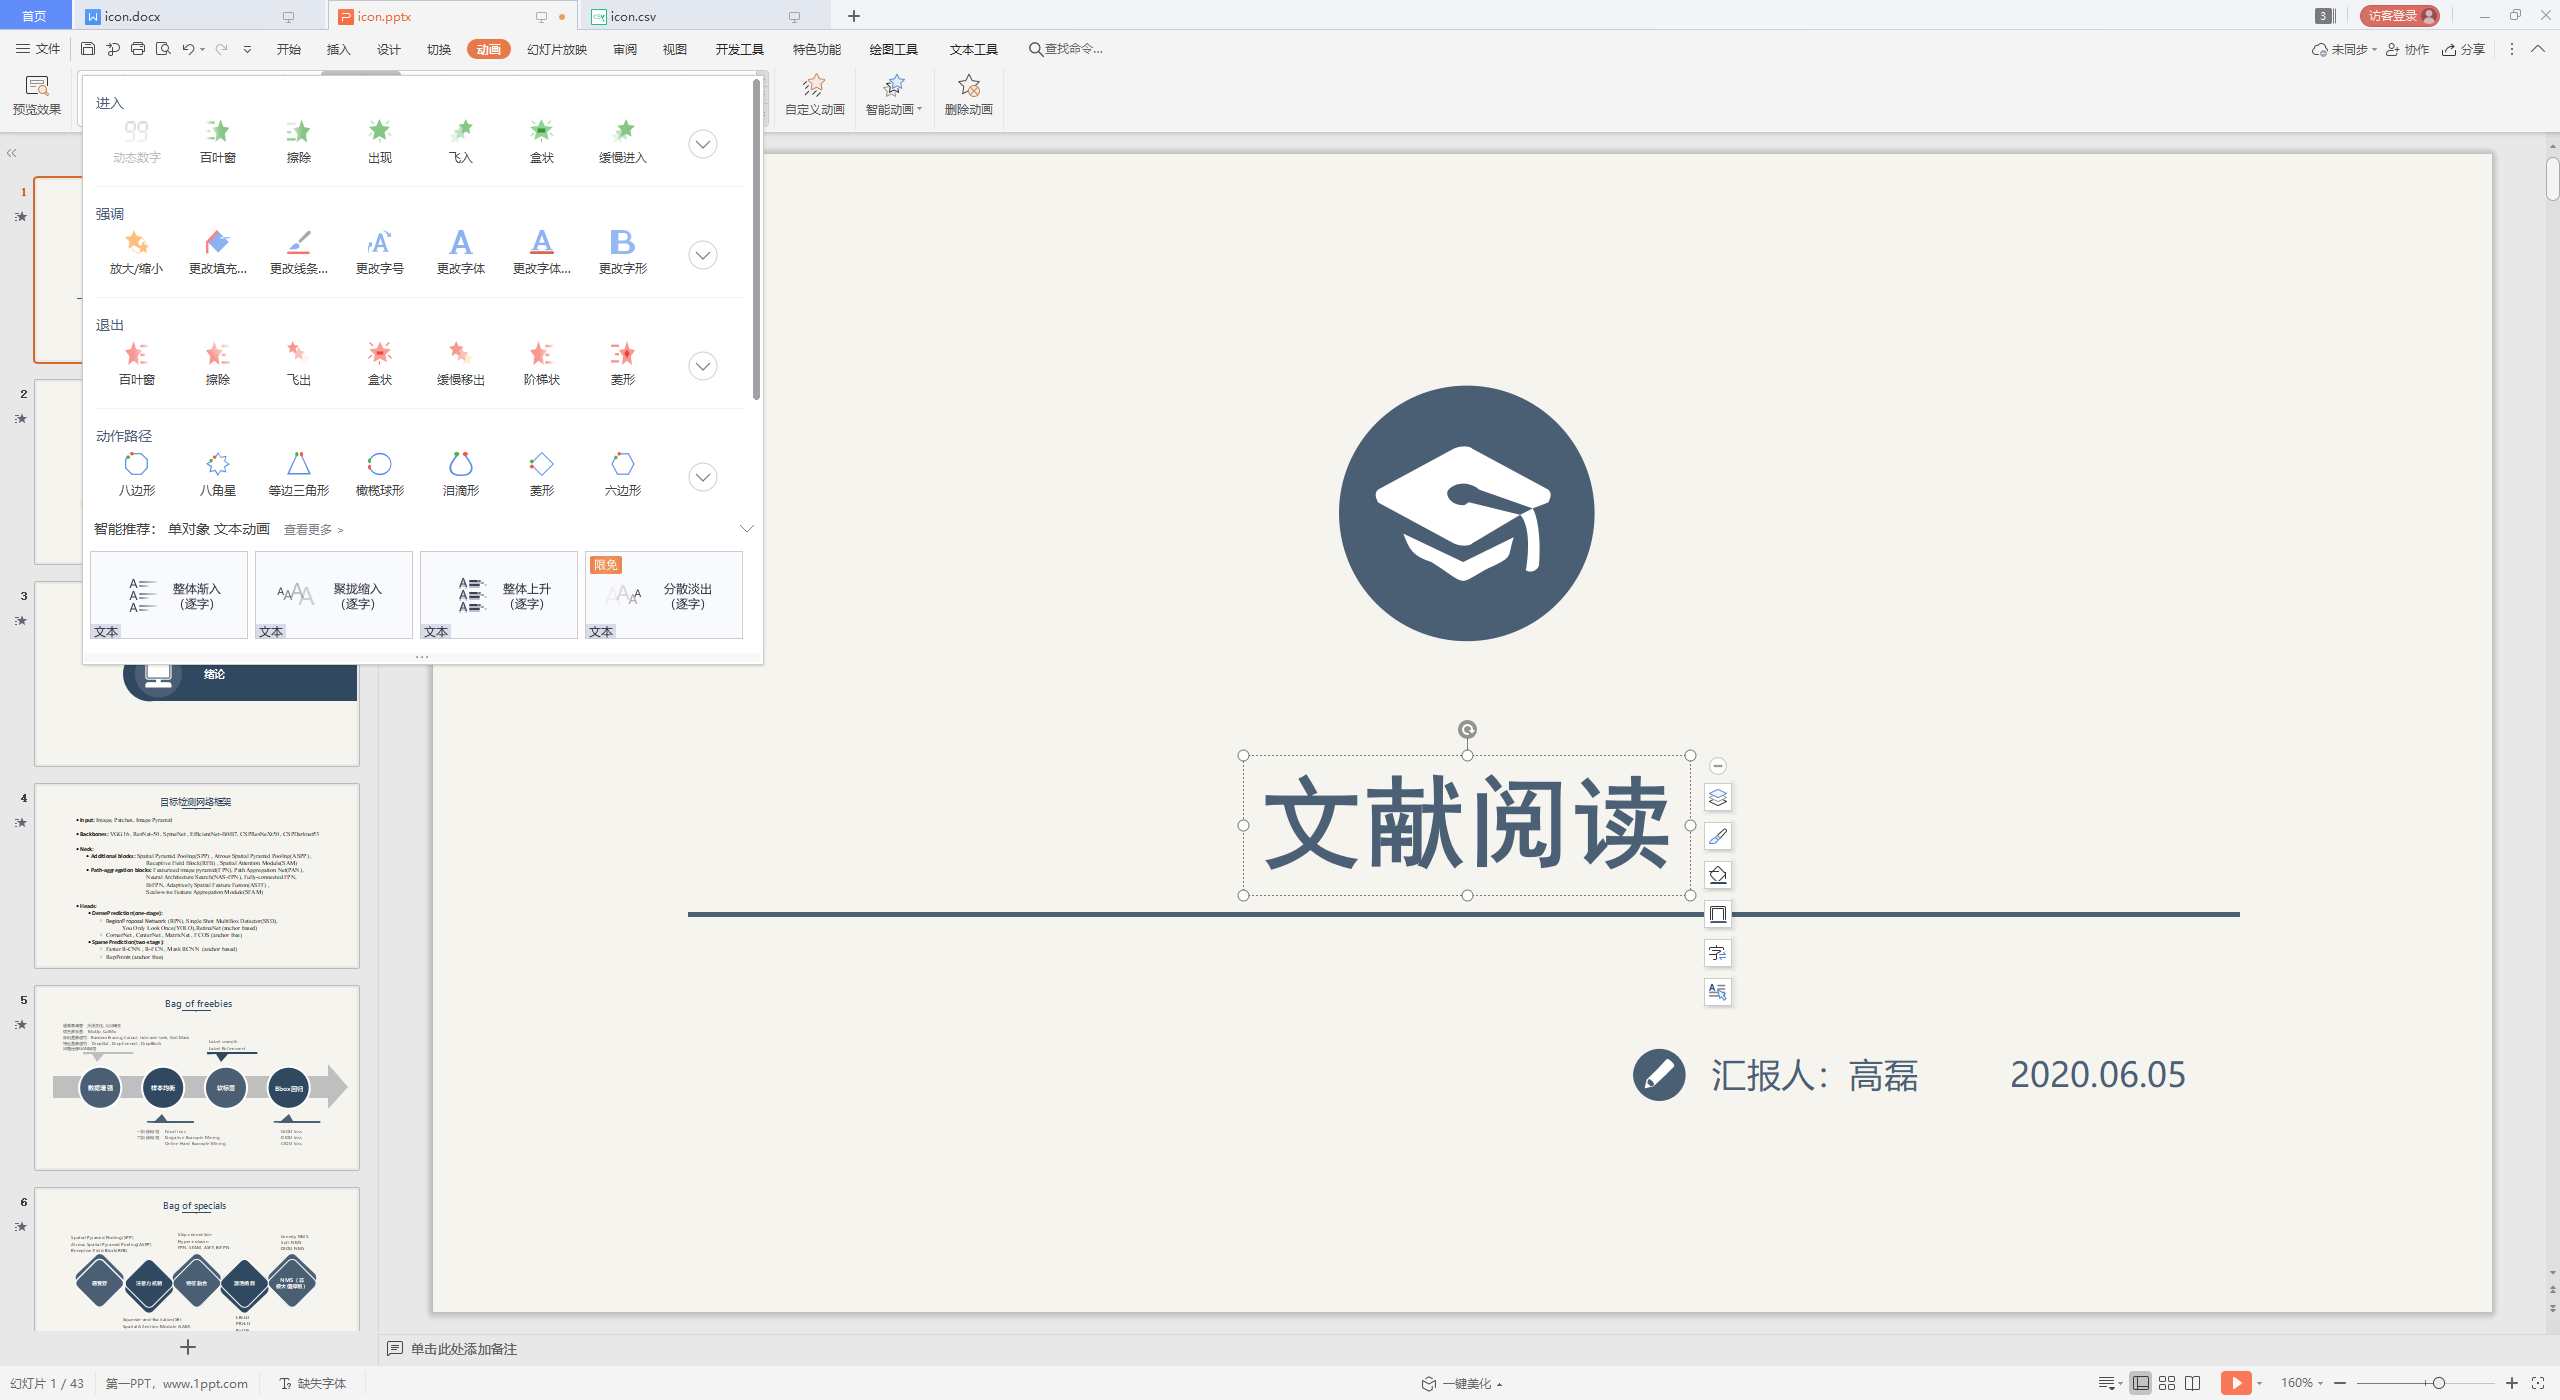character: (1265, 772, 1669, 874), (1705, 1045, 1922, 1102), (2003, 1050, 2191, 1098), (103, 1374, 252, 1395), (409, 1343, 521, 1359), (9, 1376, 86, 1395), (274, 1372, 352, 1391), (265, 483, 333, 500), (526, 41, 591, 59), (91, 522, 159, 538), (95, 428, 155, 445), (184, 260, 248, 276), (107, 260, 164, 278), (281, 519, 333, 538), (1045, 41, 1107, 57), (784, 102, 846, 117), (1443, 1372, 1489, 1393), (946, 40, 1000, 57), (595, 148, 648, 166), (212, 521, 271, 536), (714, 41, 765, 59), (352, 260, 409, 276), (350, 483, 407, 498), (267, 262, 329, 276), (355, 10, 415, 24), (512, 262, 572, 276), (860, 102, 914, 117), (791, 41, 843, 57), (867, 41, 919, 57), (596, 262, 648, 278), (434, 372, 486, 388), (109, 152, 164, 166), (2369, 9, 2417, 24), (433, 262, 486, 276), (103, 10, 164, 22), (2277, 1371, 2312, 1391), (609, 10, 659, 24), (10, 103, 60, 117), (165, 521, 209, 536), (2331, 41, 2369, 59), (941, 103, 995, 116), (440, 483, 479, 498), (519, 372, 562, 386), (603, 484, 645, 498), (17, 9, 50, 26), (91, 95, 128, 110), (91, 205, 128, 221), (117, 372, 157, 386), (360, 372, 400, 386), (116, 484, 155, 498), (197, 483, 236, 497), (34, 38, 66, 55), (93, 317, 128, 333), (198, 372, 236, 386), (279, 372, 317, 386), (195, 152, 238, 164), (283, 150, 315, 166), (524, 483, 557, 498), (2401, 41, 2431, 57), (2458, 41, 2488, 57), (271, 43, 303, 57), (322, 41, 355, 55), (372, 41, 405, 55), (474, 43, 507, 57), (609, 41, 641, 55), (660, 41, 693, 55), (362, 152, 395, 166), (605, 372, 638, 386), (421, 41, 452, 55), (526, 152, 557, 166), (445, 152, 476, 166), (16, 183, 33, 198), (12, 386, 28, 402), (17, 588, 33, 603), (16, 790, 31, 805), (16, 1197, 33, 1210), (16, 991, 31, 1005)
icon: (36, 984, 359, 1171), (36, 784, 355, 971), (40, 1188, 364, 1340), (83, 666, 359, 766), (1377, 447, 1550, 583), (419, 552, 578, 640), (586, 552, 741, 640), (255, 552, 410, 636), (90, 550, 241, 634), (33, 378, 83, 560), (33, 581, 83, 764), (33, 176, 81, 359), (1638, 1055, 1677, 1091), (1701, 781, 1734, 816), (1703, 821, 1734, 852), (688, 128, 717, 159), (688, 460, 717, 491), (2219, 1369, 2253, 1395), (688, 240, 717, 269), (688, 350, 717, 379), (1703, 860, 1733, 890), (1703, 898, 1733, 928), (1703, 938, 1733, 967), (1703, 978, 1733, 1005), (446, 450, 474, 478), (365, 340, 393, 366), (203, 340, 231, 366), (609, 340, 636, 366), (609, 228, 636, 253), (286, 448, 312, 476), (122, 340, 148, 366), (365, 117, 391, 143), (448, 229, 474, 255), (528, 340, 553, 366), (802, 71, 827, 97), (957, 71, 983, 97), (610, 450, 636, 476), (286, 229, 312, 253), (365, 229, 391, 253), (203, 229, 229, 253), (284, 340, 310, 364), (610, 117, 636, 141), (528, 119, 553, 143), (881, 72, 907, 97), (122, 452, 148, 476), (365, 452, 391, 476), (205, 450, 229, 476), (528, 452, 553, 476), (2127, 1371, 2153, 1395), (124, 229, 148, 253), (448, 340, 472, 364), (529, 229, 553, 253), (448, 117, 472, 141), (284, 119, 310, 141), (203, 119, 229, 141), (122, 119, 148, 141), (2181, 1371, 2203, 1395), (2155, 1371, 2179, 1393), (26, 74, 48, 97), (2313, 5, 2338, 24), (1707, 755, 1727, 776), (2419, 5, 2439, 24), (1457, 719, 1476, 738), (178, 1336, 197, 1355), (2096, 1372, 2115, 1391), (590, 9, 609, 26), (1027, 40, 1045, 59), (384, 1340, 403, 1357), (103, 40, 121, 57), (1420, 1374, 1438, 1391), (2503, 1374, 2520, 1391), (79, 40, 97, 55), (153, 40, 171, 55), (336, 9, 353, 24), (14, 40, 31, 55), (84, 9, 102, 24), (279, 9, 297, 24), (3, 143, 19, 160), (12, 814, 29, 829), (1234, 817, 1252, 833), (1683, 817, 1698, 834), (12, 1217, 28, 1234), (2529, 1374, 2546, 1390), (414, 652, 434, 664), (129, 40, 145, 55), (12, 410, 28, 426), (2441, 41, 2457, 57), (2384, 41, 2400, 57), (2312, 41, 2327, 57), (12, 612, 28, 628), (1236, 748, 1252, 764), (1236, 886, 1252, 902), (2431, 1374, 2446, 1390), (2544, 1264, 2560, 1279), (2505, 38, 2519, 55), (14, 1016, 28, 1033), (181, 41, 197, 55), (14, 209, 28, 224), (846, 7, 860, 22), (2476, 9, 2491, 22), (740, 521, 755, 534), (1458, 748, 1474, 762), (1683, 886, 1696, 902), (214, 41, 228, 55), (534, 10, 548, 24), (788, 10, 802, 24), (2508, 7, 2522, 21), (2531, 41, 2544, 55), (2539, 7, 2553, 21), (1460, 888, 1474, 902), (1683, 748, 1696, 762), (2332, 1376, 2346, 1390), (2546, 138, 2558, 152), (2420, 1376, 2432, 1390), (334, 522, 347, 536), (241, 43, 253, 55), (555, 10, 567, 22), (1493, 1378, 1505, 1390), (2546, 1284, 2558, 1297), (2548, 1302, 2560, 1314), (2315, 1376, 2326, 1390), (915, 102, 926, 114), (2255, 1376, 2263, 1390), (2370, 41, 2377, 57), (197, 43, 205, 55)
